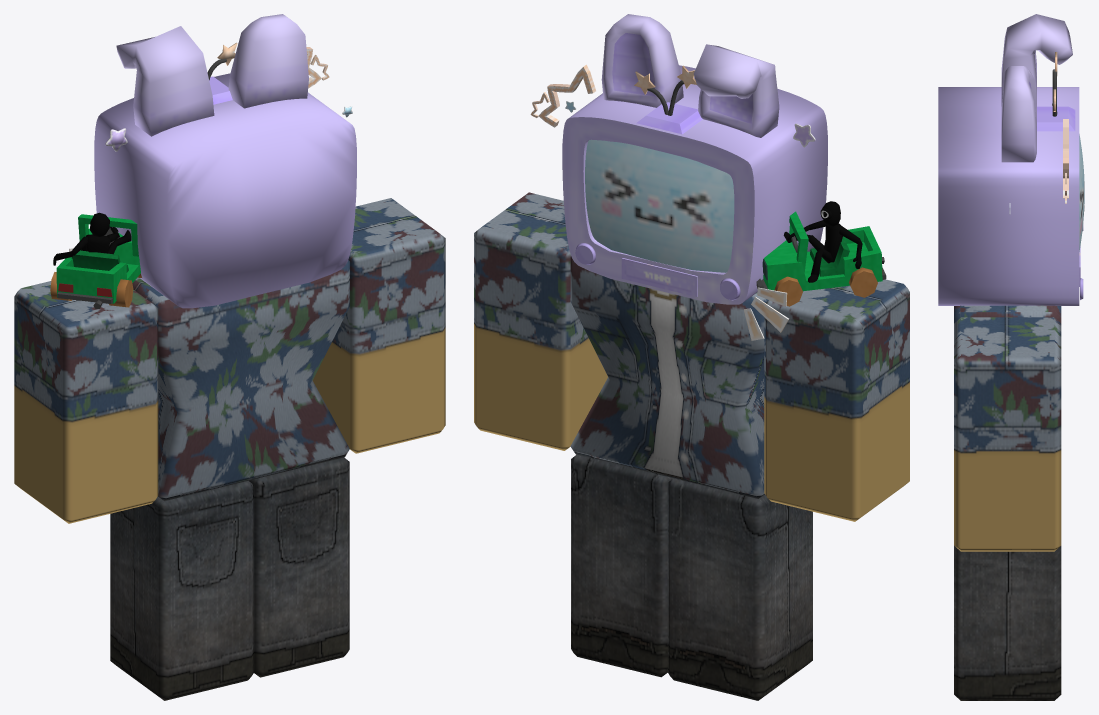
Rendered from bom222.fbx.
3 renders of one model, left to right at view 1: azimuth 30°, elevation 25°; view 2: azimuth 150°, elevation 25°; view 3: azimuth 270°, elevation 25°, orthographic. The views are drawn at different scales.
Parts seen in each view (by area): view 1: bm222; view 2: bm222; view 3: bm222.
Boxes of the visible parts, left/top/right/bottom form: bm222: left=14, top=14, right=445, bottom=700; bm222: left=474, top=14, right=909, bottom=700; bm222: left=938, top=14, right=1084, bottom=700.
Bounding box in the file's own units: 400 × 629 × 136.
1 material, 1 textured.
